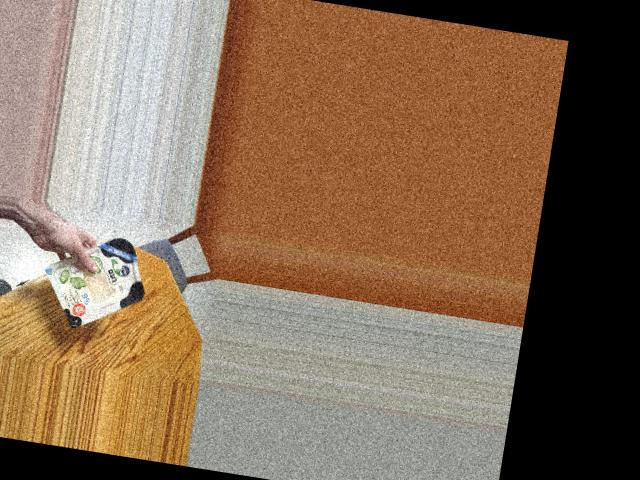cheese: (51, 229, 159, 331)
